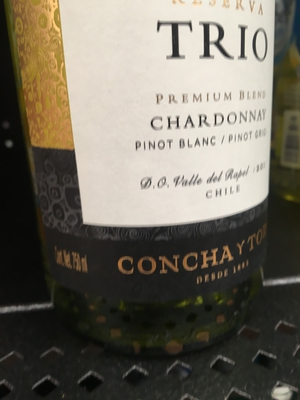trio chardonnay: (14, 1, 282, 347)
